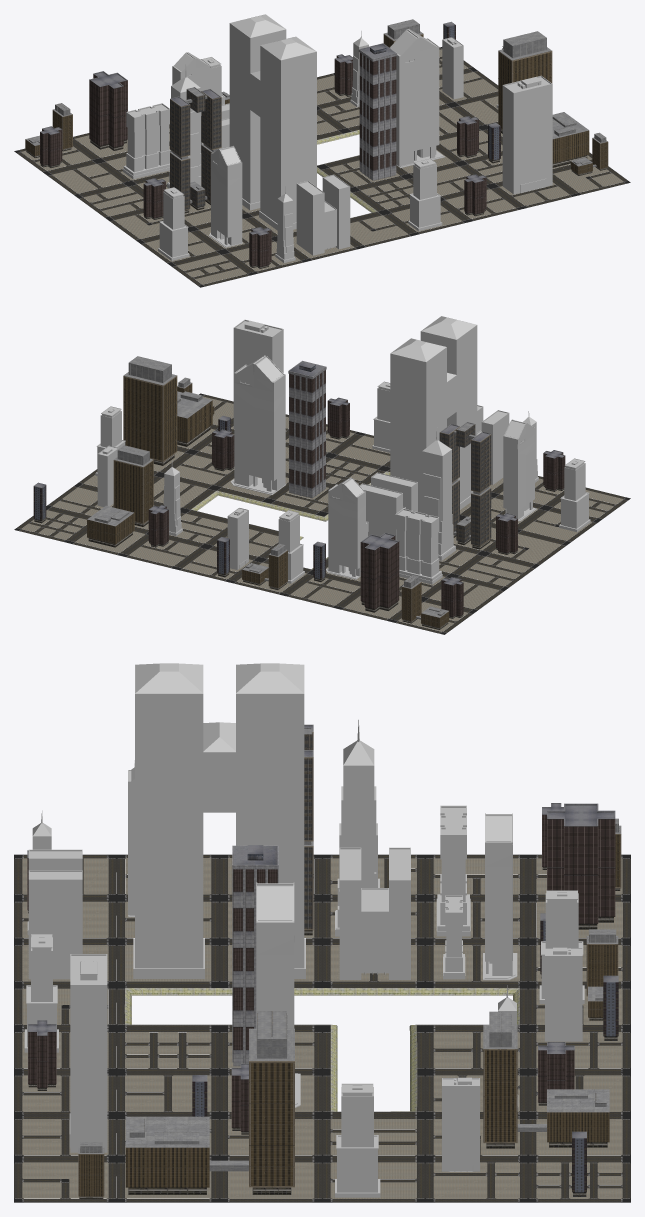
File: City_NEw.FBX
3 renders of one model, top to bottom at view 1: azimuth 30°, elevation 25°; view 2: azimuth 150°, elevation 25°; view 3: azimuth 270°, elevation 25°, orthographic. The views are drawn at different scales.
Visible parts, largest first — view 1: FootPath_09, BnP_Large_Building_D_001, BnP_Large_Building_J_004, BnP_Large_Building_E_004, Skyscraper_F_004, Skyscraper_E_001, Skyscraper_D_004, BnP_Large_Building_A_003, Roads_Street_00, BnP_Large_Building_E_003, BnP_Large_Building_C_012, Skyscraper_J_002 (+33 smaller); view 2: FootPath_09, BnP_Large_Building_D_001, Skyscraper_D_004, BnP_Large_Building_E_004, Skyscraper_F_004, Skyscraper_D_002, Skyscraper_E_001, Roads_Street_00, BnP_Large_Building_E_005, Skyscraper_J_002, BnP_Large_Building_E_003, BnP_Large_Building_C_012 (+30 smaller); view 3: FootPath_09, BnP_Large_Building_D_001, Skyscraper_D_004, Roads_Street_00, Skyscraper_D_002, BnP_Large_Building_A_002, BnP_Large_Building_J_004, Skyscraper_J_002, Skyscraper_F_004, BnP_Large_Building_A_003, BnP_Large_Building_E_004, BnP_Large_Building_E_005 (+64 smaller).
Boxes of the visible parts, box(x1,y1,x2,y2) form: FootPath_09: box(21, 49, 623, 284); BnP_Large_Building_D_001: box(229, 14, 316, 230); BnP_Large_Building_J_004: box(502, 75, 552, 194); BnP_Large_Building_E_004: box(390, 29, 444, 168); Skyscraper_F_004: box(358, 43, 397, 180); Skyscraper_E_001: box(170, 87, 221, 213); Skyscraper_D_004: box(498, 31, 589, 167); BnP_Large_Building_A_003: box(296, 174, 350, 255); Roads_Street_00: box(32, 56, 611, 279); BnP_Large_Building_E_003: box(209, 146, 243, 247); BnP_Large_Building_C_012: box(123, 103, 170, 179); Skyscraper_J_002: box(89, 71, 127, 150); FootPath_09: box(21, 396, 623, 631); BnP_Large_Building_D_001: box(390, 316, 477, 512); Skyscraper_D_004: box(123, 356, 212, 465); BnP_Large_Building_E_004: box(230, 355, 286, 495); Skyscraper_F_004: box(288, 360, 326, 498); Skyscraper_D_002: box(87, 445, 153, 547); Skyscraper_E_001: box(439, 422, 491, 549); Roads_Street_00: box(29, 401, 616, 623); BnP_Large_Building_E_005: box(326, 477, 365, 579); Skyscraper_J_002: box(360, 532, 399, 612); BnP_Large_Building_E_003: box(503, 419, 536, 521); BnP_Large_Building_C_012: box(395, 508, 442, 584); FootPath_09: box(22, 858, 622, 1198); BnP_Large_Building_D_001: box(133, 663, 305, 978); Skyscraper_D_004: box(125, 1011, 294, 1194); Roads_Street_00: box(22, 858, 622, 1198); Skyscraper_D_002: box(483, 1011, 609, 1148); BnP_Large_Building_A_002: box(339, 847, 410, 979); BnP_Large_Building_J_004: box(69, 954, 107, 1152); Skyscraper_J_002: box(547, 803, 615, 929); Skyscraper_F_004: box(232, 845, 278, 1066); BnP_Large_Building_A_003: box(28, 849, 82, 979); BnP_Large_Building_E_004: box(256, 882, 300, 1107); BnP_Large_Building_E_005: box(483, 813, 517, 980).
Size of the model in its own units: 726643 by 292484 by 544982.
